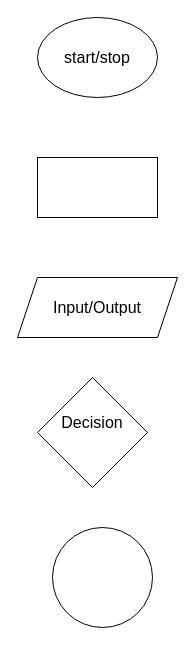
Image size: 195x645. Some labels were removed from this diagram. The centre of each missing label's shape, as x and y in pixels:
Connector: (x=102, y=577)
Processing Step: (x=97, y=187)
